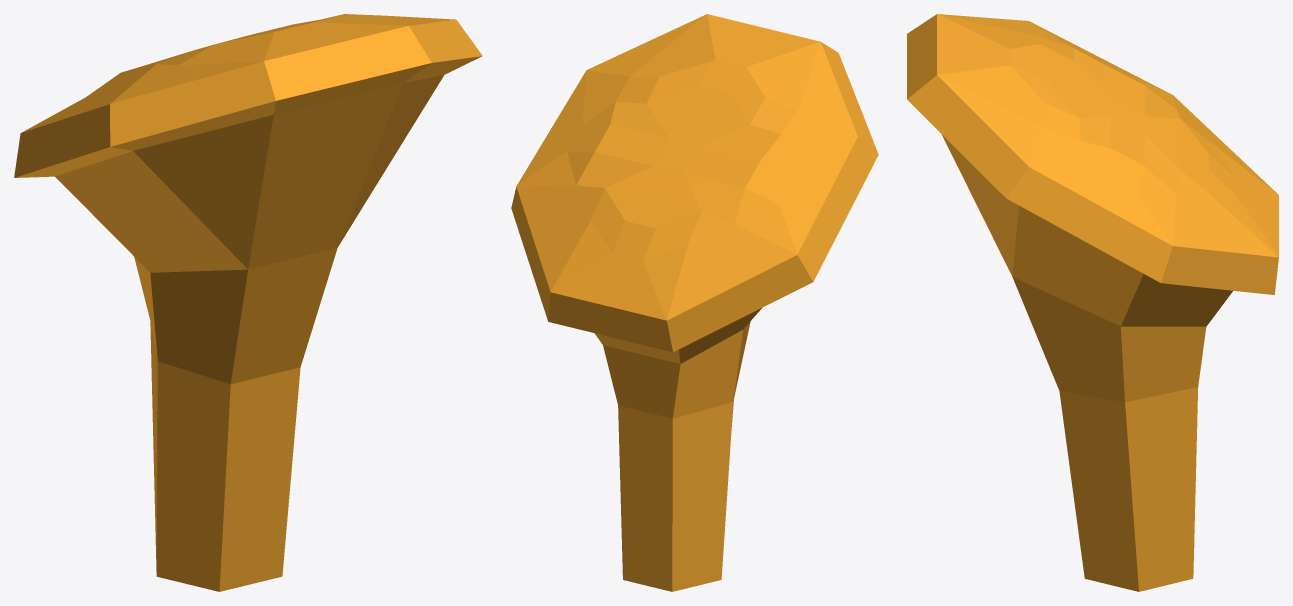
Rendered from SM_Can_Watering_Plastic_Nozzle.fbx.
The picture shows the model from 3 angles, left to right: view 1: azimuth 30°, elevation 25°; view 2: azimuth 150°, elevation 25°; view 3: azimuth 270°, elevation 25°; orthographic projection. The views are drawn at different scales.
Visible parts, largest first — view 1: can-watering-plastic-nozzle; view 2: can-watering-plastic-nozzle; view 3: can-watering-plastic-nozzle.
Part boxes in pixels (<box>): can-watering-plastic-nozzle: <box>14,14,482,591</box>; can-watering-plastic-nozzle: <box>511,14,878,591</box>; can-watering-plastic-nozzle: <box>907,14,1278,591</box>.
Size of the model in its own units: 0.1141 by 0.1706 by 0.1104.
